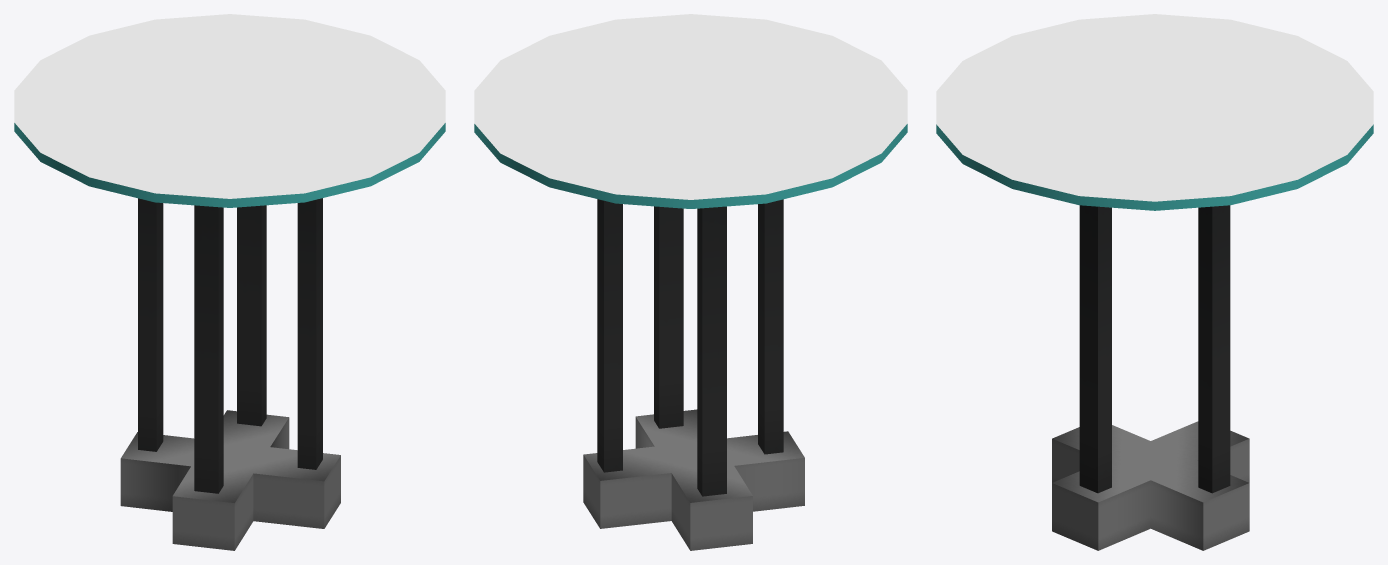
The model's file is Pub_Table.FBX.
The picture shows the model from 3 angles, left to right: view 1: azimuth 30°, elevation 25°; view 2: azimuth 150°, elevation 25°; view 3: azimuth 270°, elevation 25°; orthographic projection.
Parts seen in each view (by area): view 1: Pub_Table; view 2: Pub_Table; view 3: Pub_Table.
Part boxes in pixels (x1,y1,x2,y2): Pub_Table: (14, 14, 445, 550); Pub_Table: (474, 14, 907, 550); Pub_Table: (936, 14, 1373, 550).
Size of the model in its own units: 208 by 207 by 205.
